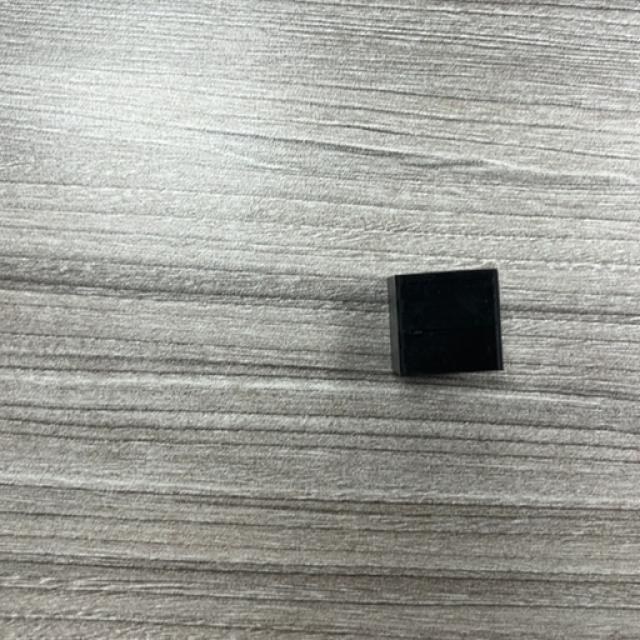Negro: (386, 266, 504, 379)
